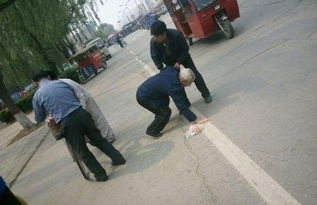falling: (129, 63, 210, 139)
